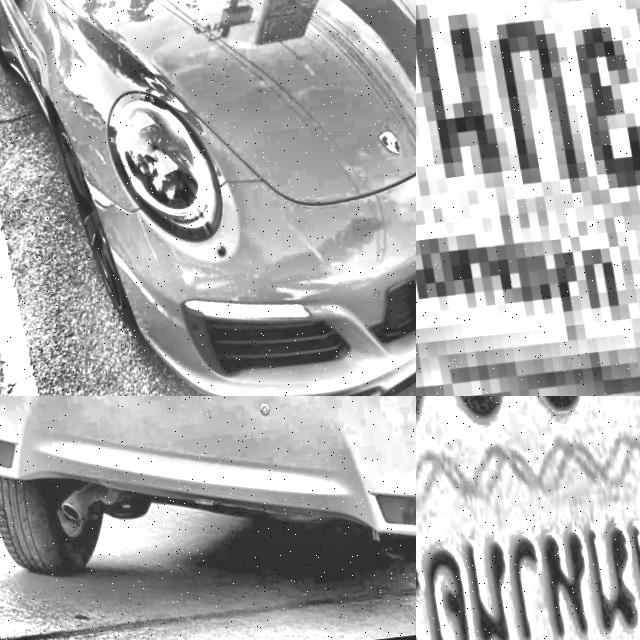license-plate: (416, 0, 640, 396), (416, 396, 640, 640), (383, 209, 416, 345)
